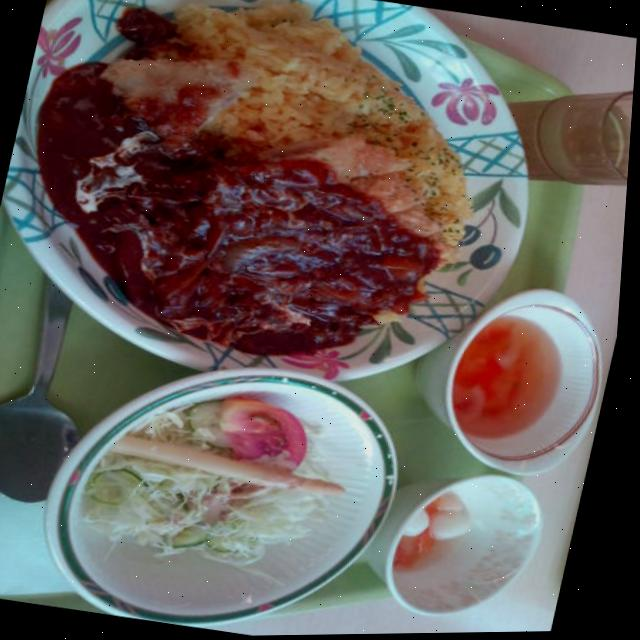猪肉菜式: (0, 0, 534, 387)
蔬菜料理: (71, 379, 365, 606)
